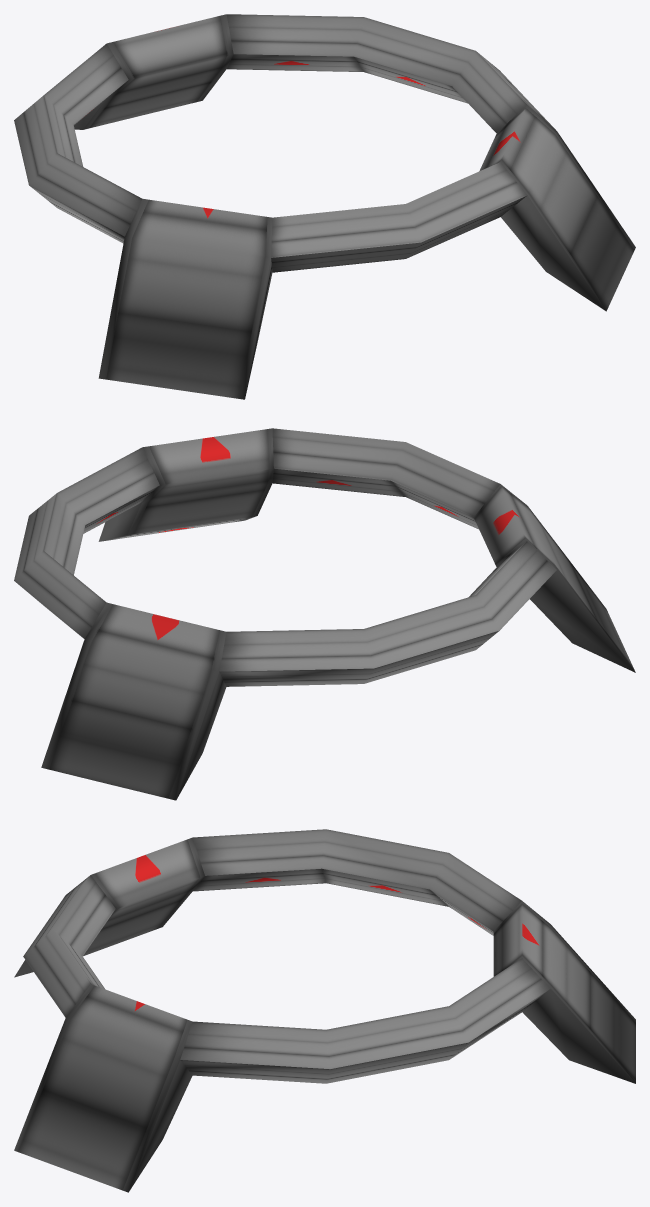
Rendered from DashRing.fbx.
The picture shows the model from 3 angles, top to bottom: view 1: azimuth 30°, elevation 25°; view 2: azimuth 150°, elevation 25°; view 3: azimuth 270°, elevation 25°; orthographic projection.
Visible parts, largest first — view 1: Torus.003; view 2: Torus.003; view 3: Torus.003.
Part boxes in pixels (box(x1,y1,x2,y2)): Torus.003: box(14, 14, 635, 399); Torus.003: box(14, 428, 635, 800); Torus.003: box(14, 829, 635, 1192).
Size of the model in its own units: 2.96 by 0.7223 by 3.02.
